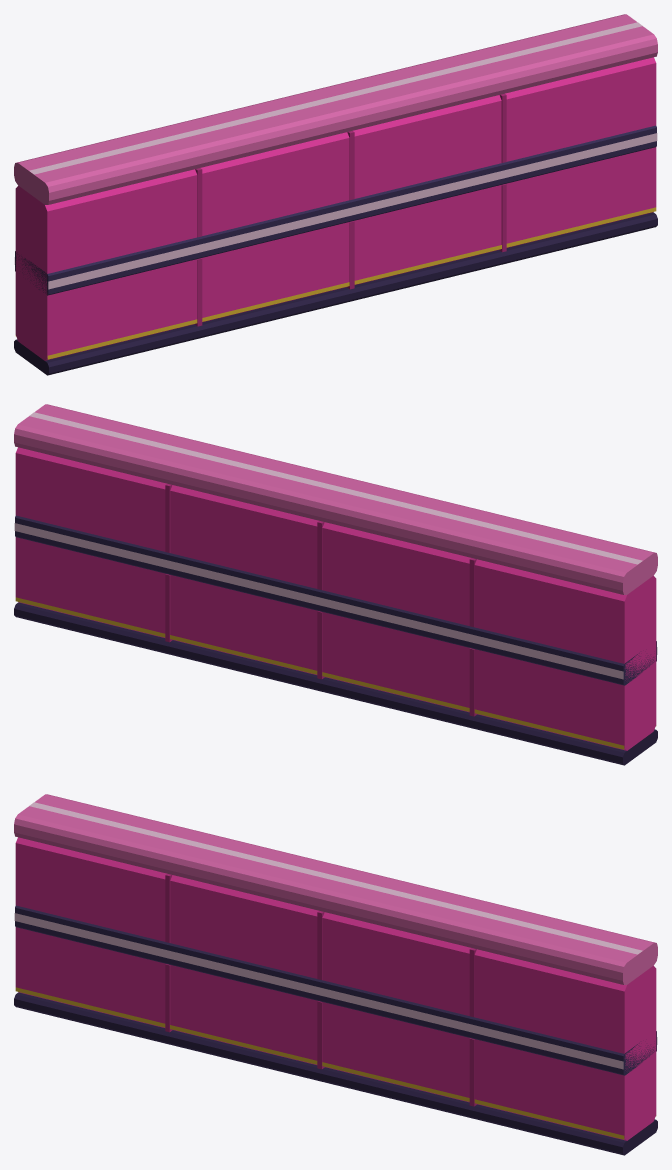
File: neon-wall2.glb
The picture shows the model from 3 angles, top to bottom: view 1: azimuth 30°, elevation 25°; view 2: azimuth 150°, elevation 25°; view 3: azimuth 330°, elevation 25°; orthographic projection.
Visible parts, largest first — view 1: neon-wall2; view 2: neon-wall2; view 3: neon-wall2.
Boxes of the visible parts, x1,y1,x2,y2 form: neon-wall2: (14, 14, 657, 375); neon-wall2: (14, 404, 657, 765); neon-wall2: (14, 794, 657, 1155).
Size of the model in its own units: 4 by 1.2 by 0.4.
